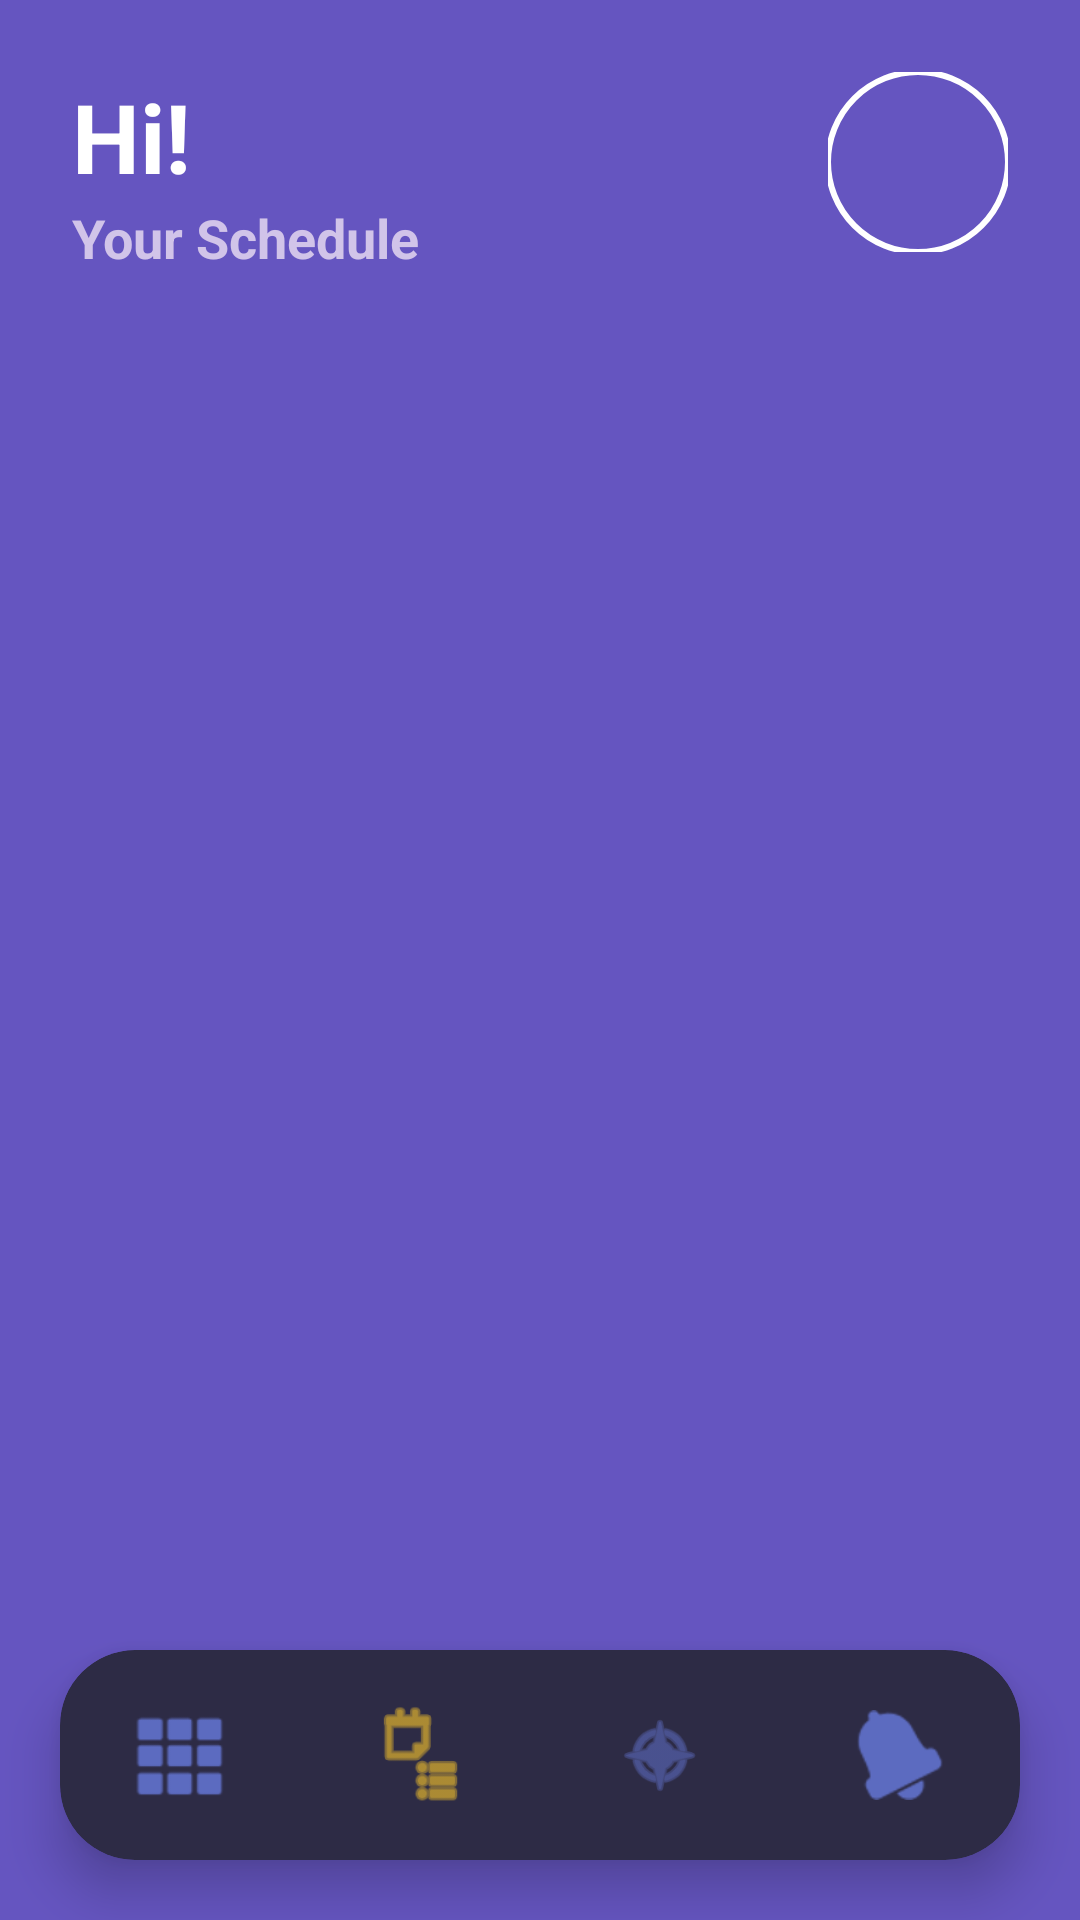

Icon bounding boxes for this 1080 x 1920 phone screenshot, format (x1, y1, x2, y2):
agenda: (384, 1707, 457, 1801)
compass: (624, 1720, 695, 1791)
dialer: (137, 1718, 222, 1795)
popup reminder: (858, 1710, 942, 1800)
